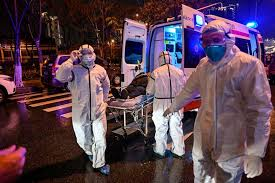masked: (201, 19, 234, 64), (75, 42, 100, 70)
